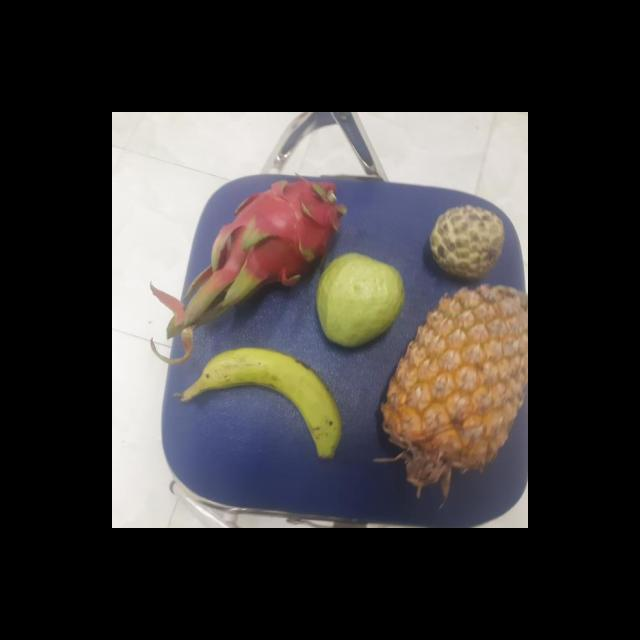Sakya fruit: (426, 206, 504, 278)
banana: (175, 344, 342, 452)
guava: (312, 252, 404, 346)
pitaya: (216, 178, 342, 298)
